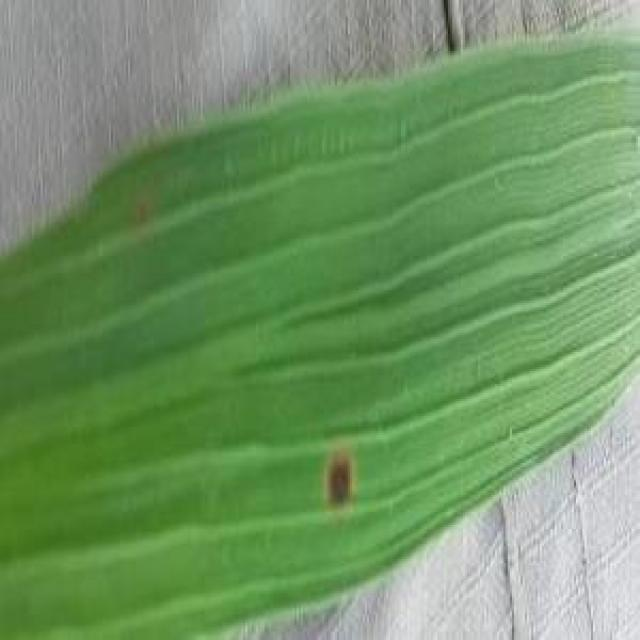Brown_Spot: (317, 438, 363, 506)
